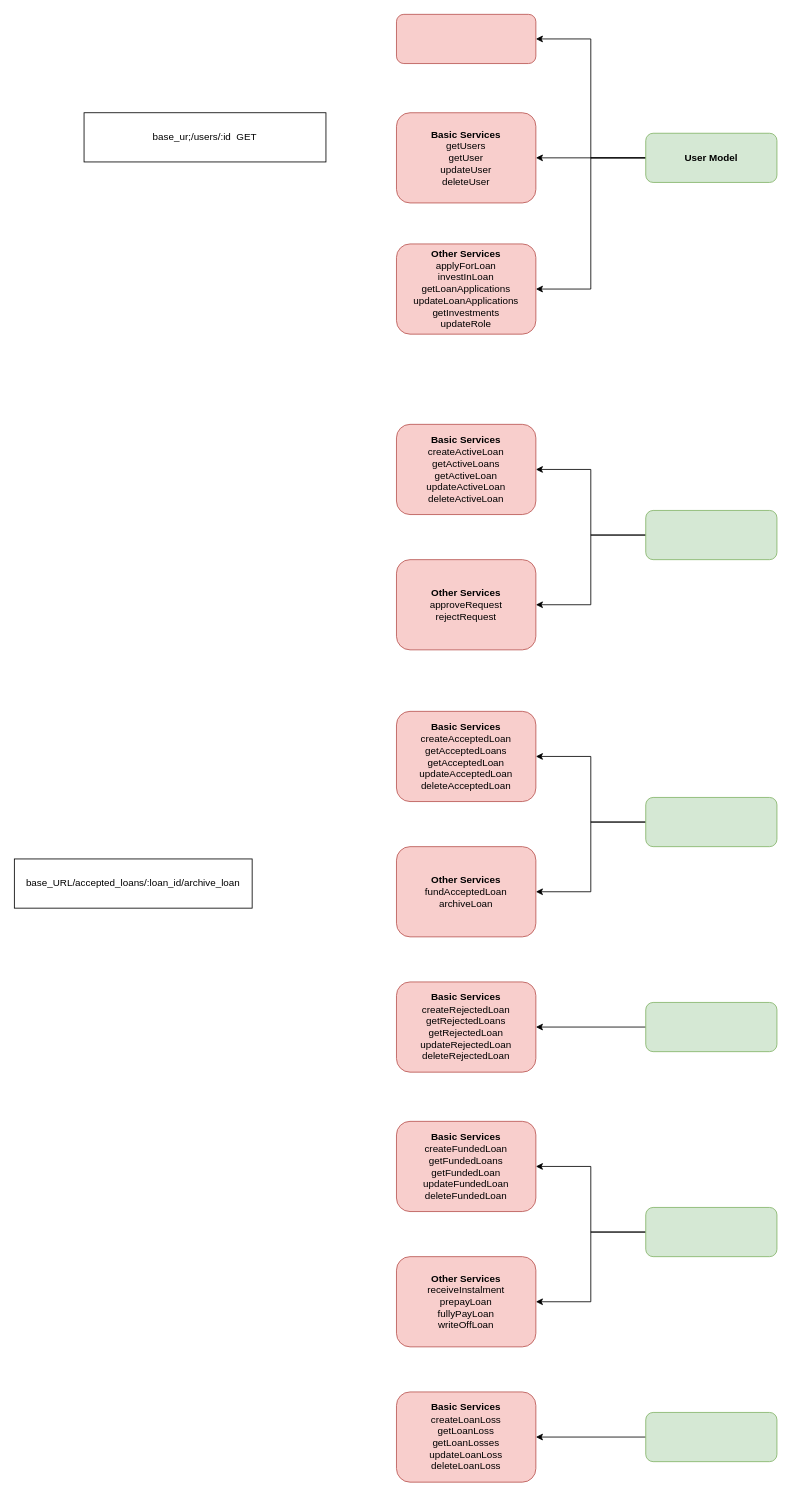
This 791x1497 diagram has some shape labels left out. Each missing label, with the centre of its shape:
"Accepted Loans" goes at (711,822).
"Active Loan Request" goes at (711,535).
"Auth login register" goes at (466,39).
"Funded Loans" goes at (711,1232).
"Loans Losses" goes at (711,1437).
"Rejected Loans" goes at (711,1027).
